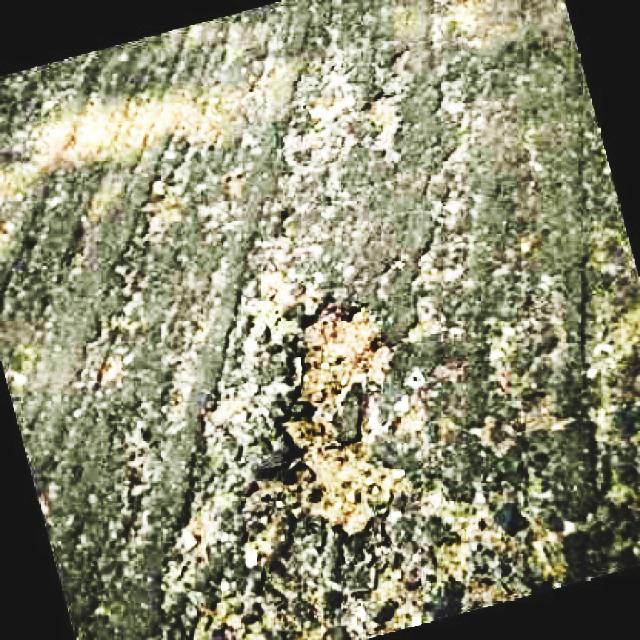pothole: (258, 302, 408, 532), (237, 535, 518, 640), (366, 44, 402, 154)
